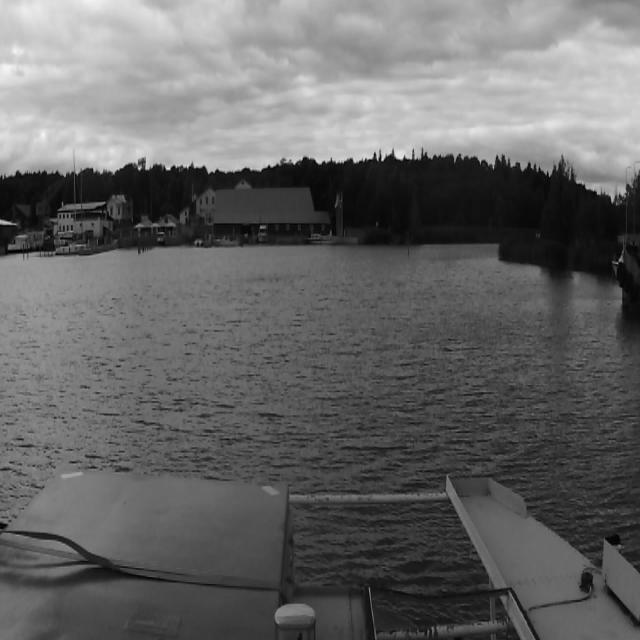ship: (258, 224, 268, 243), (196, 236, 204, 244)
